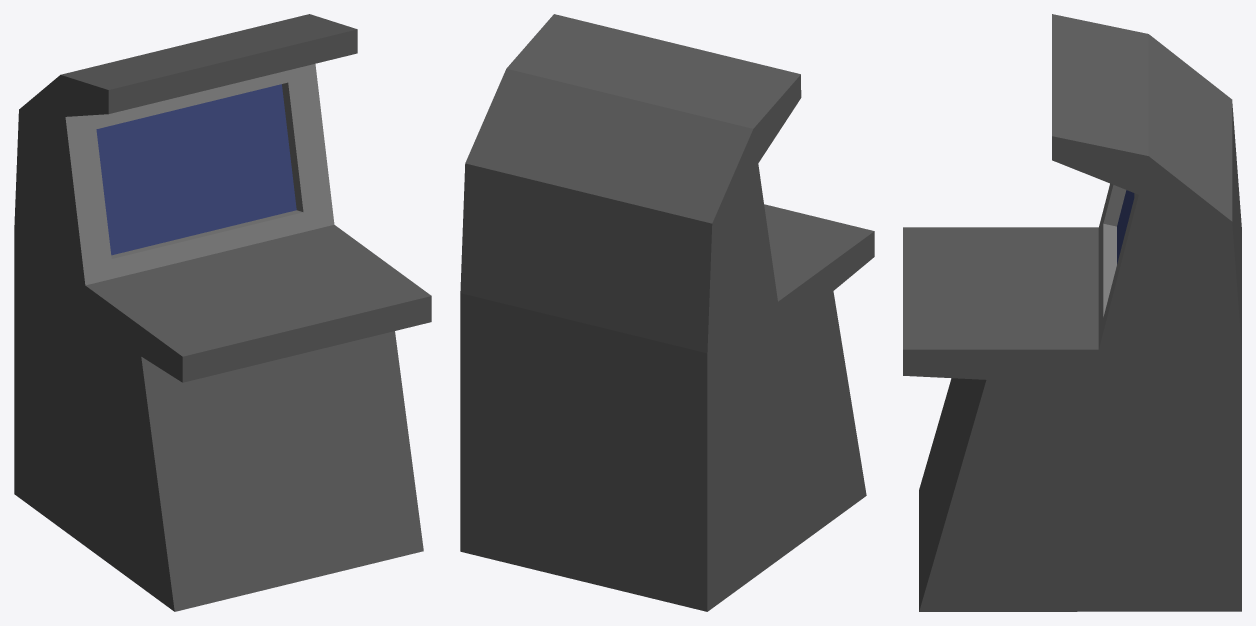
The model's file is Terminal1.fbx.
3 renders of one model, left to right at view 1: azimuth 30°, elevation 25°; view 2: azimuth 150°, elevation 25°; view 3: azimuth 270°, elevation 25°, orthographic.
Visible parts, largest first — view 1: Terminal1; view 2: Terminal1; view 3: Terminal1.
Boxes of the visible parts, bbox=[...] form: Terminal1: bbox=[14, 14, 431, 611]; Terminal1: bbox=[460, 14, 874, 611]; Terminal1: bbox=[903, 14, 1241, 611].
Size of the model in its own units: 10 by 18.16 by 11.72.
